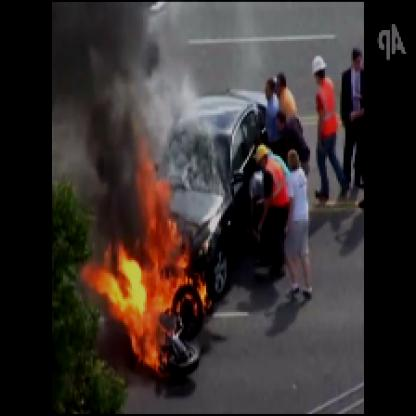Fire: (96, 160, 216, 379)
Smoke: (60, 2, 152, 232)
